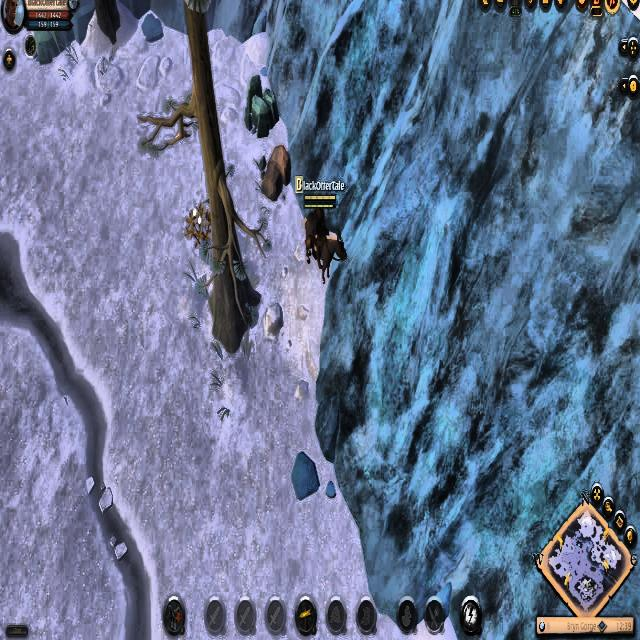limestone: (255, 143, 291, 202)
sandstone: (241, 72, 281, 136)
